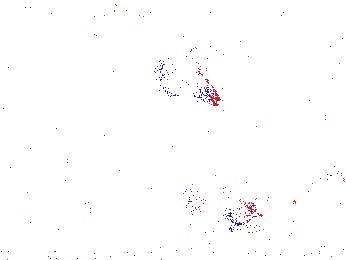flame jellyfish: (179, 174, 263, 228), (152, 51, 221, 107), (290, 161, 346, 214)
